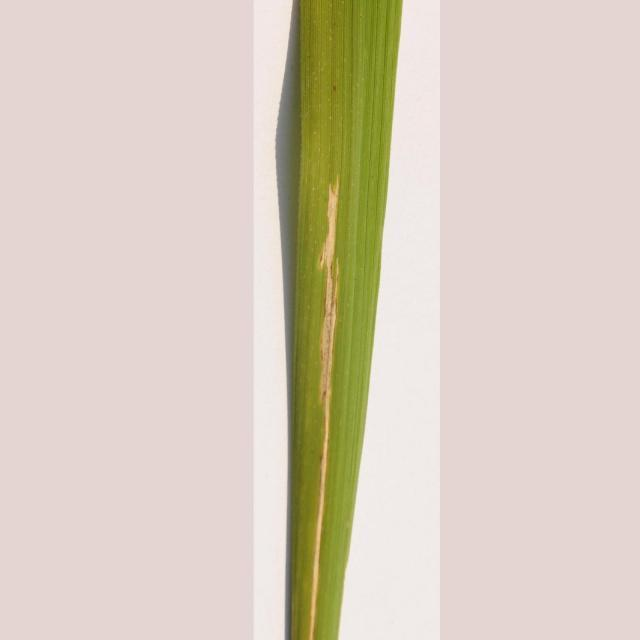Bacterial_Leaf_Blight: (275, 156, 396, 640)
